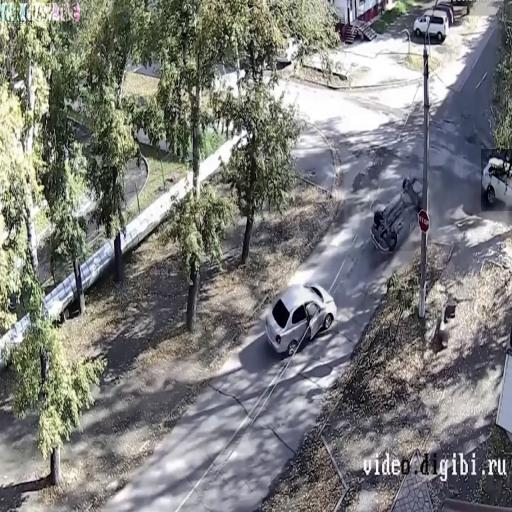小汽车: (270, 284, 338, 342), (374, 178, 426, 251), (481, 150, 512, 212), (411, 13, 449, 39)
